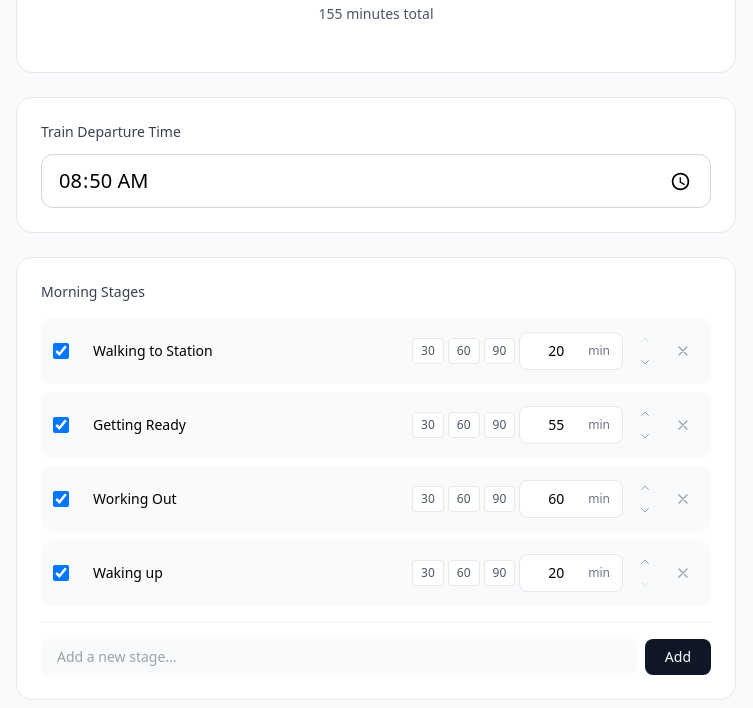
Scenario: App › allows adding a new stage
This screenshot has width=753, height=708.
(page scrolled)
In the field with placeholder "Add a new stage...": (339, 657) 41,639 -> 637,675, type "New Stage"
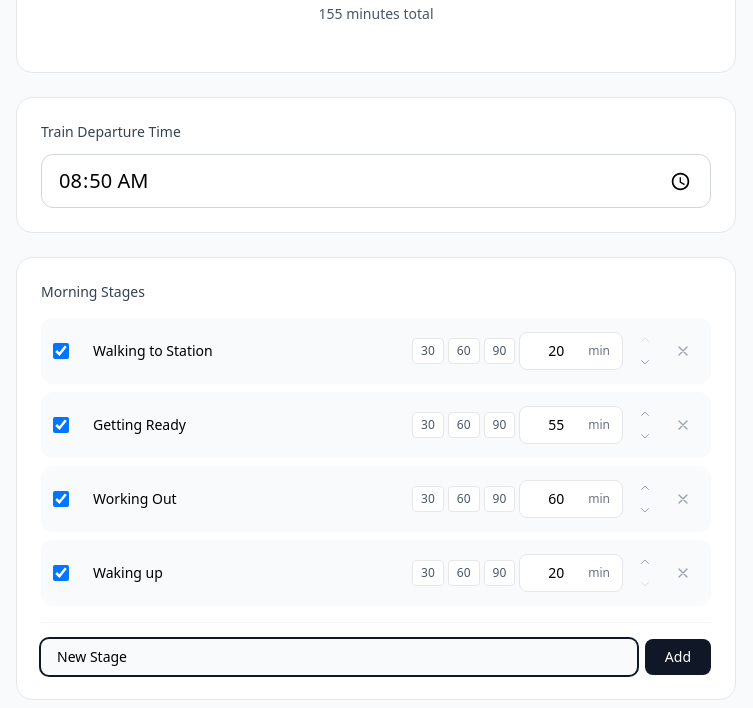
Click the button "Add": (678, 657) 645,639 -> 711,675
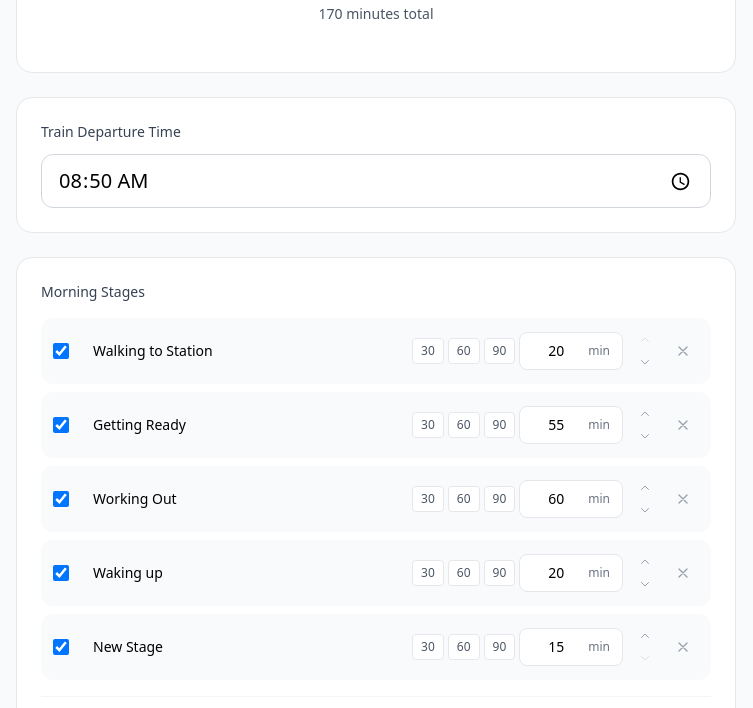
Expected: the 5th field showing "New Stage" is shown, 81,629 -> 400,665
